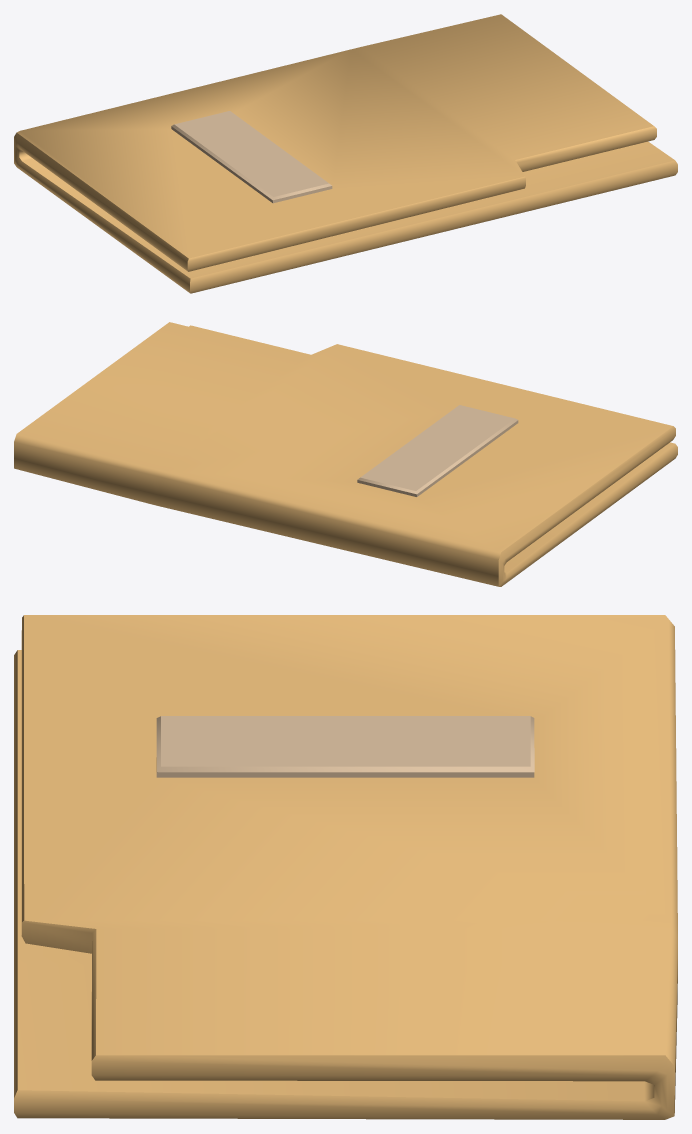
3 renders of one model, top to bottom at view 1: azimuth 30°, elevation 25°; view 2: azimuth 150°, elevation 25°; view 3: azimuth 270°, elevation 25°, orthographic. The views are drawn at different scales.
Visible parts, largest first — view 1: File; view 2: File; view 3: File.
Boxes of the visible parts, x1,y1,x2,y2 form: File: (14,14,677,293); File: (14,322,677,586); File: (14,615,677,1119).
Size of the model in its own units: 0.1603 by 0.1015 by 0.0129.
